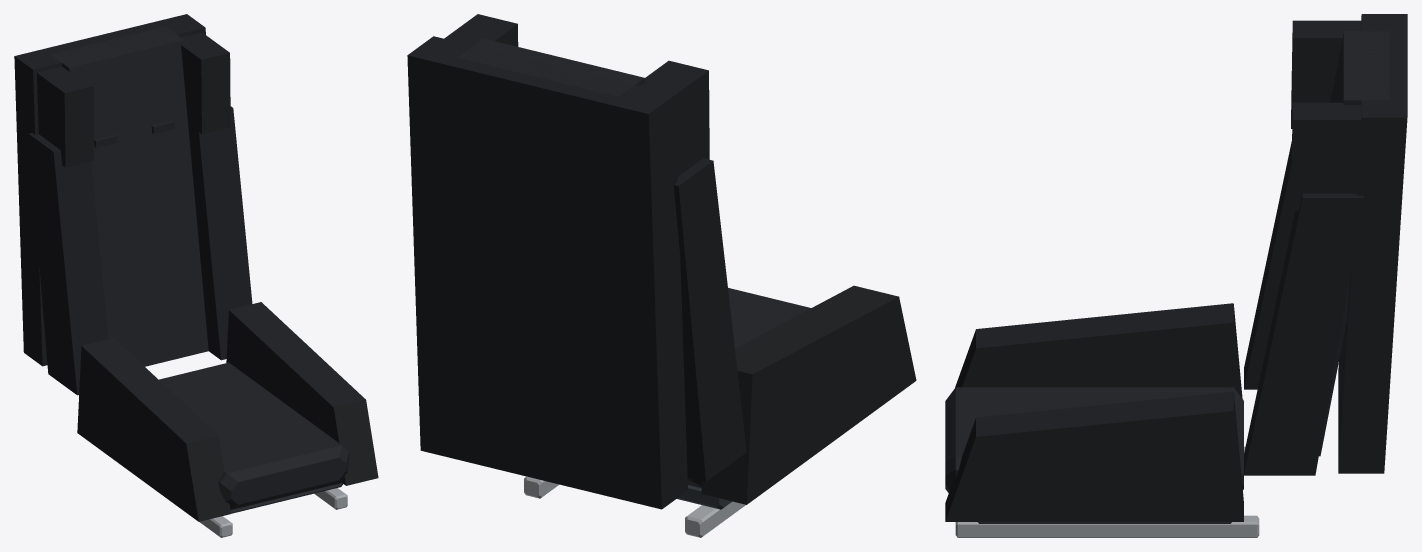
Rendered from kaze_gt.glb.
3 renders of one model, left to right at view 1: azimuth 30°, elevation 25°; view 2: azimuth 150°, elevation 25°; view 3: azimuth 270°, elevation 25°, orthographic. The views are drawn at different scales.
Visible parts, largest first — view 1: model; view 2: model; view 3: model.
Part boxes in pixels (box(x1,y1,x2,y2)): model: box(14, 14, 378, 537); model: box(407, 14, 916, 537); model: box(945, 14, 1407, 537).
Size of the model in its own units: 0.5 by 0.94 by 0.9055.
Materials: 4 (1 with a texture image).
